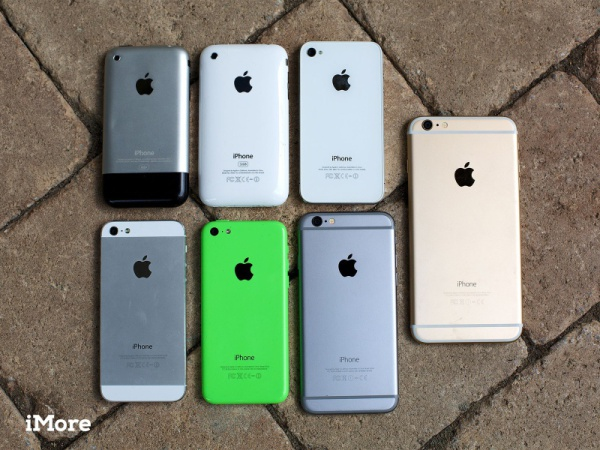apple: (225, 64, 266, 104), (320, 67, 363, 98), (228, 248, 259, 291), (443, 158, 483, 191), (333, 246, 365, 286), (127, 247, 159, 285), (129, 70, 162, 104)
